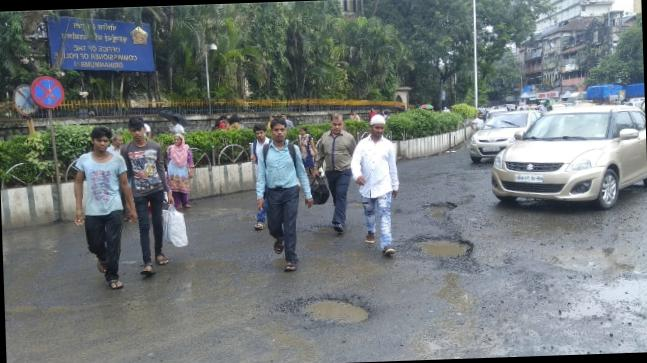pothole: (1, 126, 647, 363), (288, 286, 376, 340), (408, 229, 477, 271), (412, 196, 460, 223), (308, 222, 334, 236)
